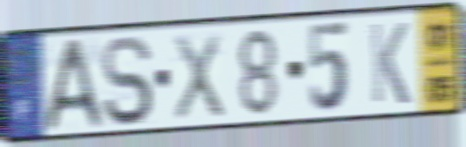5: (306, 17, 356, 117)
8: (235, 25, 282, 119)
A: (42, 34, 107, 134)
K: (367, 20, 412, 107)
S: (100, 33, 155, 129)
X: (171, 30, 227, 124)
